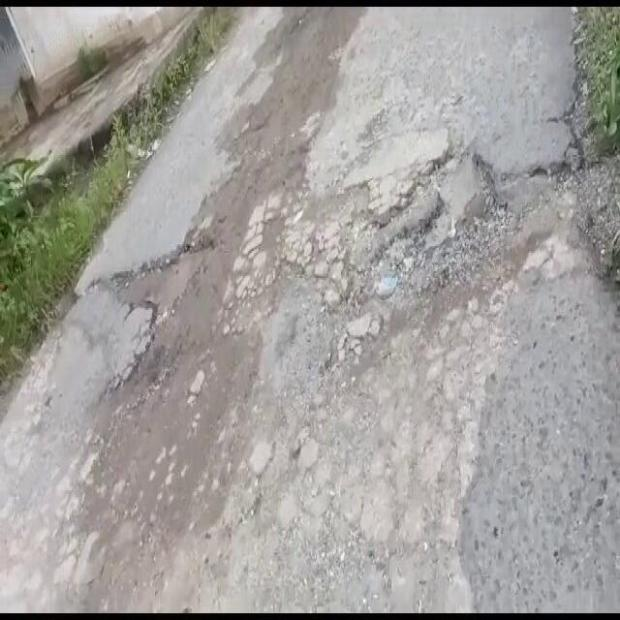lubang: (127, 153, 599, 406)
